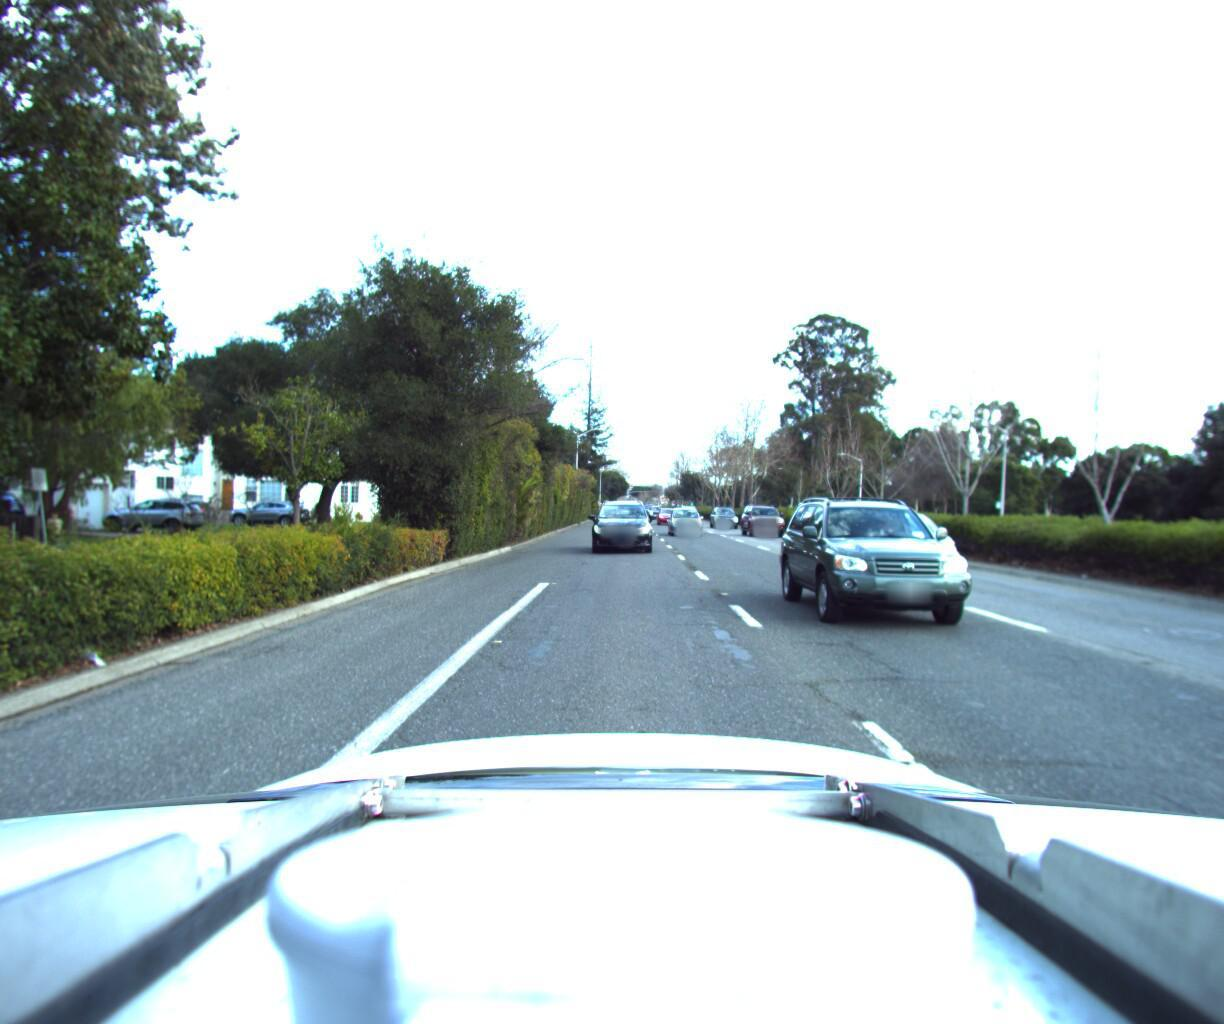car: (788, 484, 1038, 655), (867, 503, 1002, 576), (96, 491, 208, 531), (590, 494, 654, 554), (225, 496, 309, 528), (740, 492, 794, 533), (662, 497, 705, 530), (710, 501, 742, 525), (654, 498, 680, 521)
